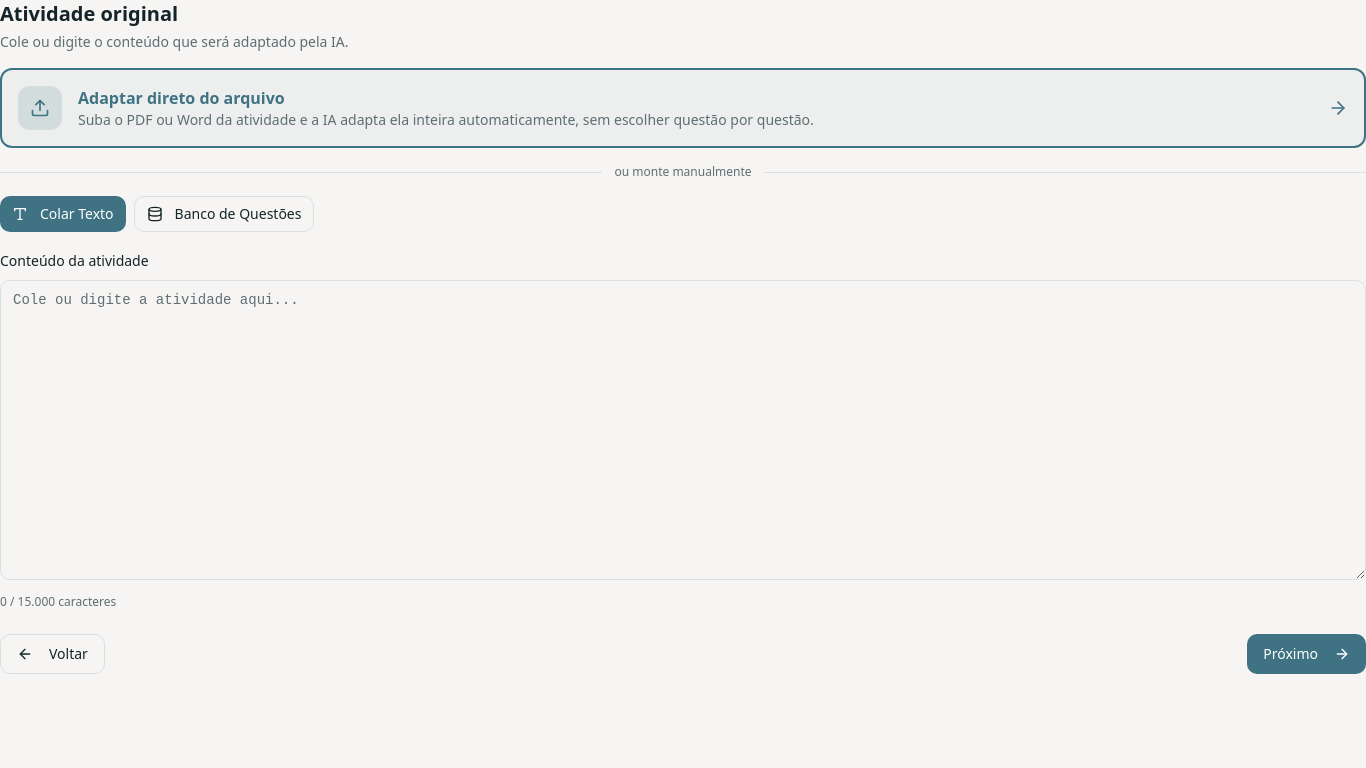
Test: StepActivityInput — Banco de Questões tab › opens bank modal when clicking Abrir Banco de Questões
Click the button "Banco de Questões": x=224, y=214 [134,196,314,232]
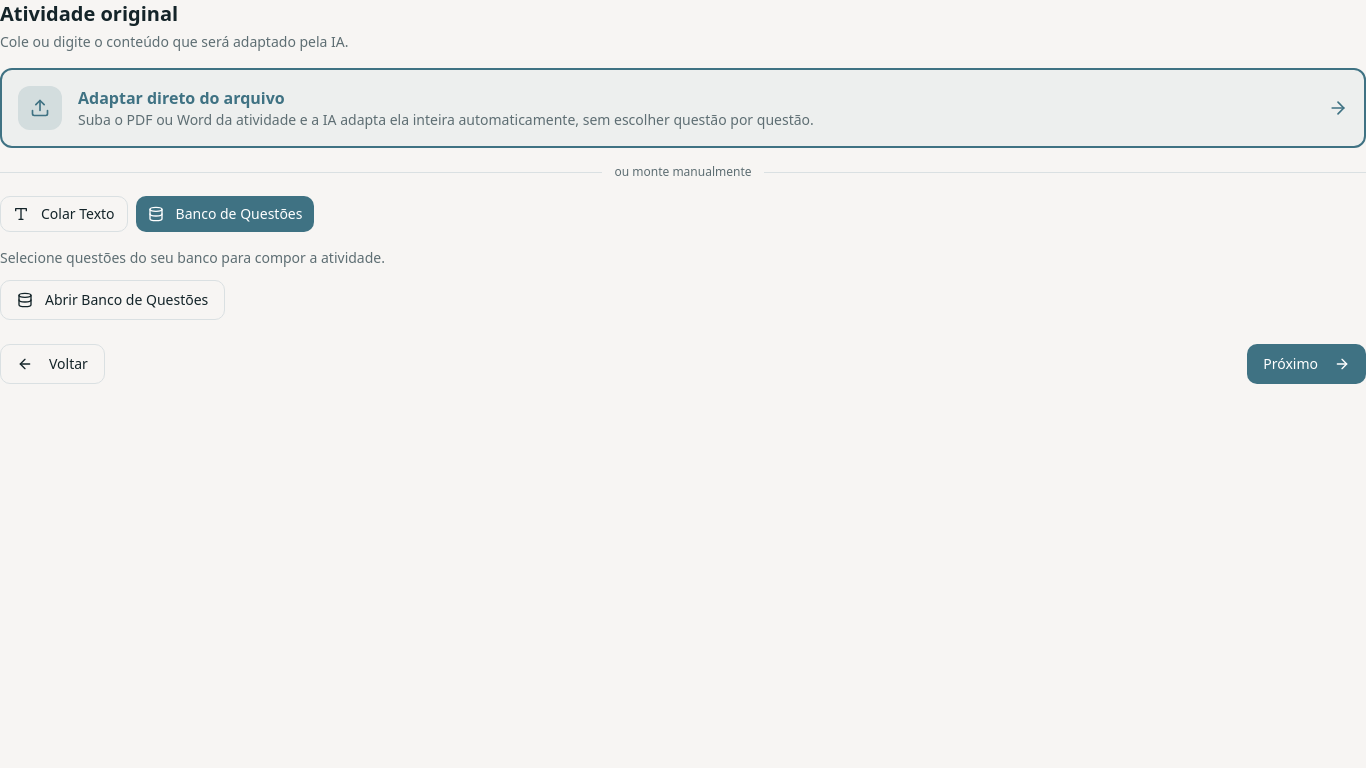
Click the button "Abrir Banco de Questões": x=113, y=300 [0,280,225,320]
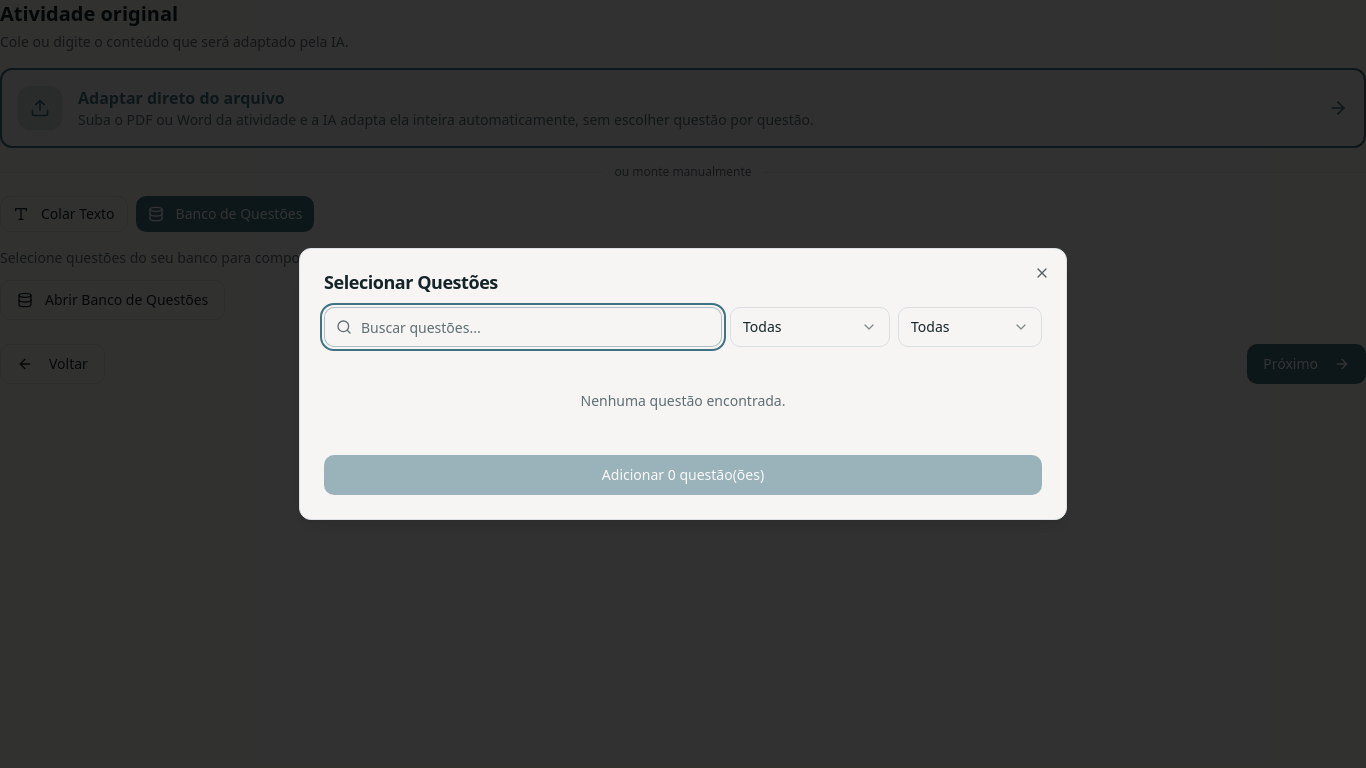
Now the dialog is shown, box [299,248,1067,520]
